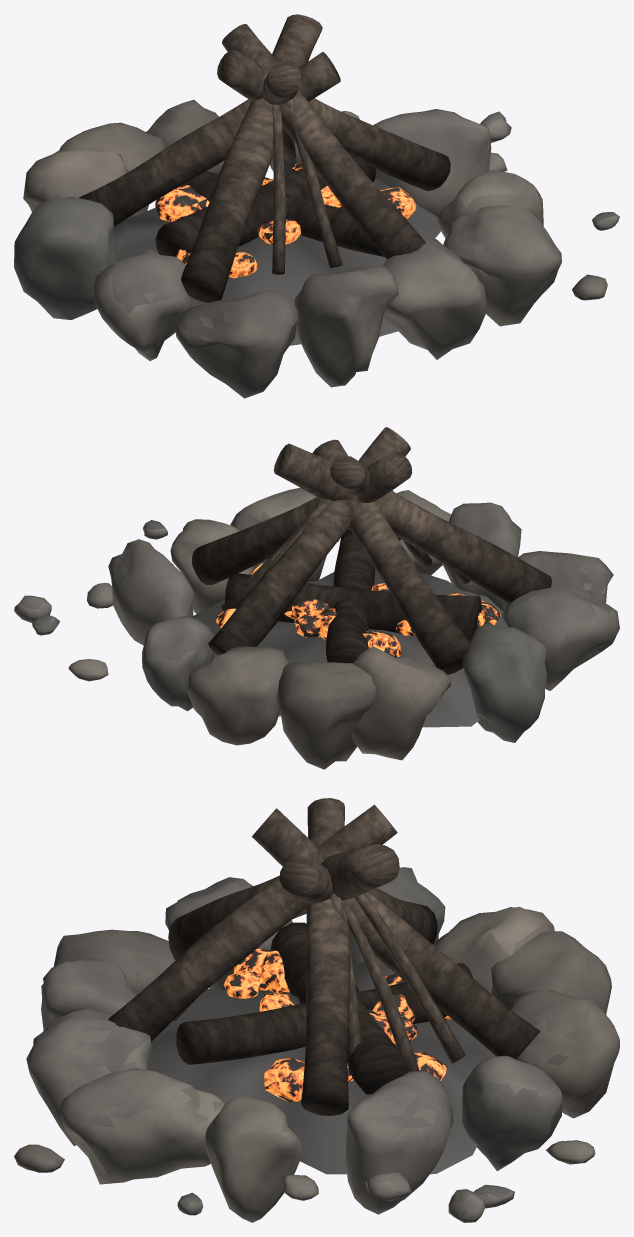
Rendered from campfire.glb.
3 renders of one model, top to bottom at view 1: azimuth 30°, elevation 25°; view 2: azimuth 150°, elevation 25°; view 3: azimuth 270°, elevation 25°, orthographic. The views are drawn at different scales.
Parts seen in each view (by area): view 1: Stones, Logs, Ash, Embers; view 2: Stones, Logs, Ash, Embers; view 3: Stones, Logs, Ash, Embers.
Boxes of the visible parts, x1,y1,x2,y2 form: Stones: (14, 99, 619, 398); Logs: (79, 14, 450, 302); Ash: (114, 175, 440, 345); Embers: (155, 161, 416, 278); Stones: (14, 487, 619, 769); Logs: (192, 427, 551, 674); Ash: (193, 569, 506, 727); Embers: (216, 563, 500, 660); Stones: (14, 867, 619, 1222); Logs: (108, 798, 540, 1115); Ash: (149, 961, 495, 1174); Embers: (223, 948, 451, 1102).
Size of the model in its own units: 1.25 by 0.5958 by 1.08.
Materials: 4 (3 with a texture image).
